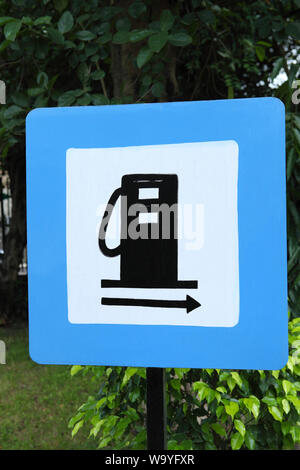fuel-station: (97, 170, 203, 293)
right turn: (98, 294, 204, 317)
